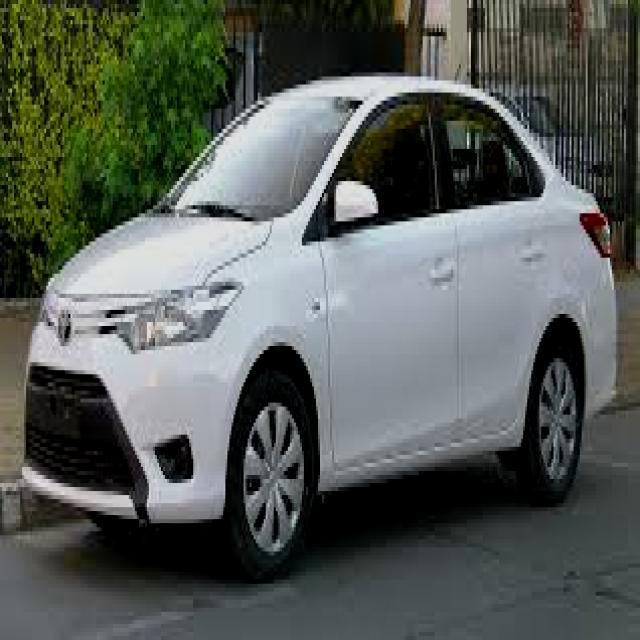ToyotaVios: (19, 71, 619, 582)
